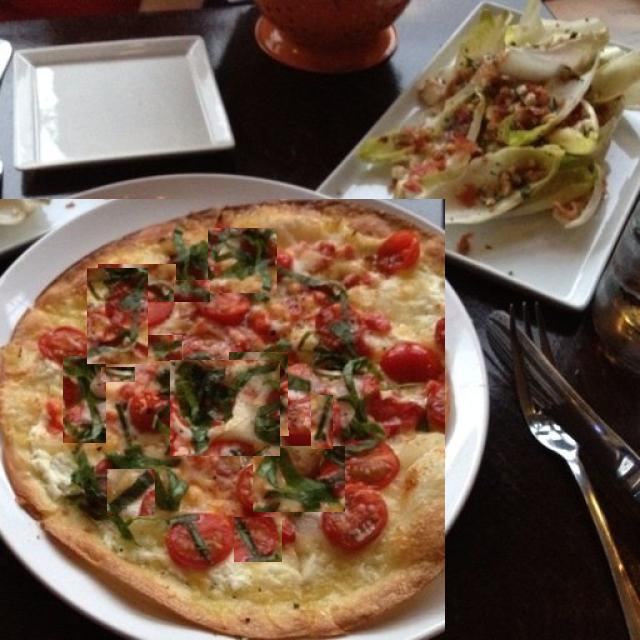basil: (288, 431, 388, 546), (170, 360, 280, 456), (253, 446, 345, 512), (87, 268, 148, 364), (230, 352, 290, 436), (208, 228, 277, 293), (63, 356, 106, 443), (98, 264, 176, 302), (107, 469, 155, 516), (234, 517, 282, 562), (311, 395, 333, 449), (148, 335, 182, 361), (174, 280, 210, 302), (176, 237, 218, 255), (245, 438, 282, 458), (101, 367, 135, 382)
pizza: (0, 199, 445, 640)
